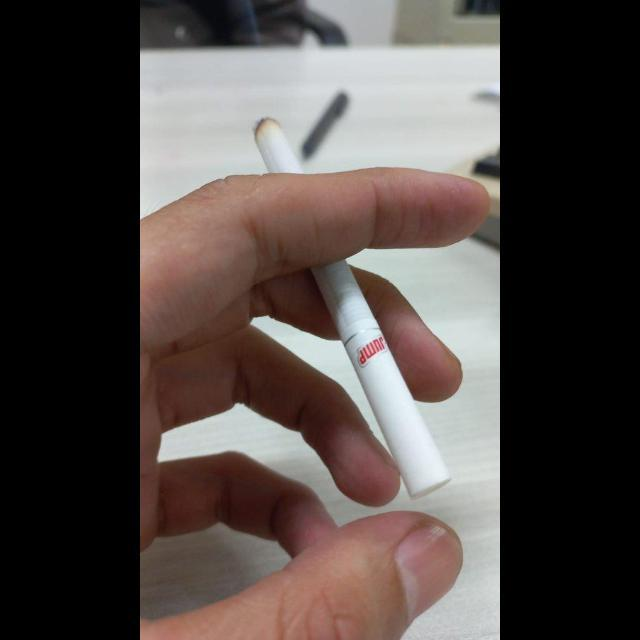rokok: (247, 108, 455, 500)
